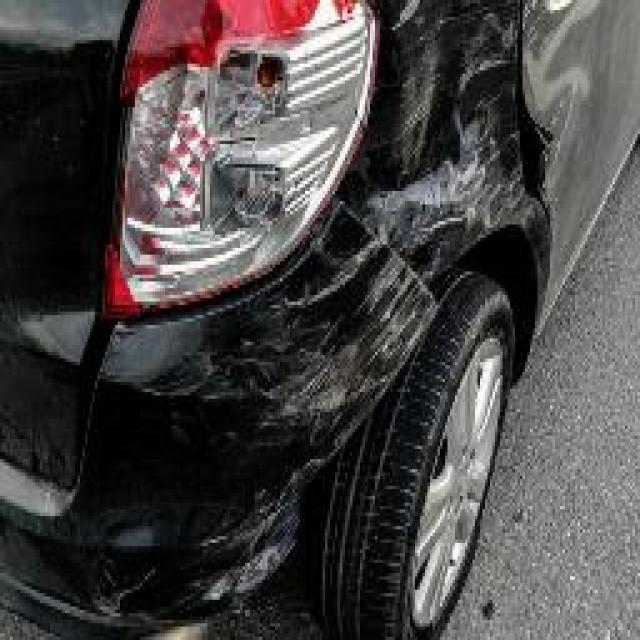Bumper: (115, 255, 400, 586)
Fender: (378, 0, 532, 255)
Light: (138, 3, 335, 288)
